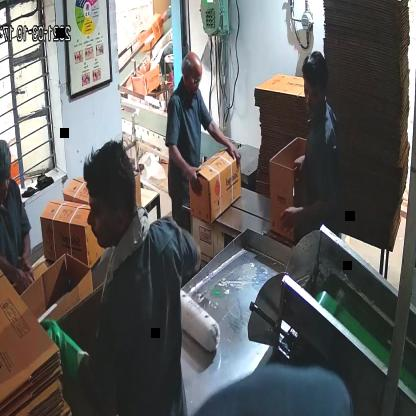glove: (34, 314, 86, 384)
no_glove: (277, 178, 339, 241), (159, 141, 205, 197), (205, 119, 243, 174), (0, 242, 34, 299)
